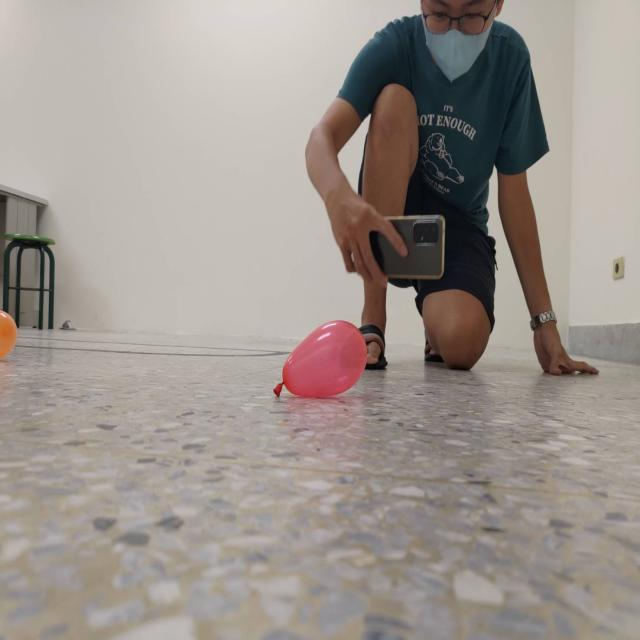other: (0, 306, 17, 362)
red: (272, 318, 366, 401)
